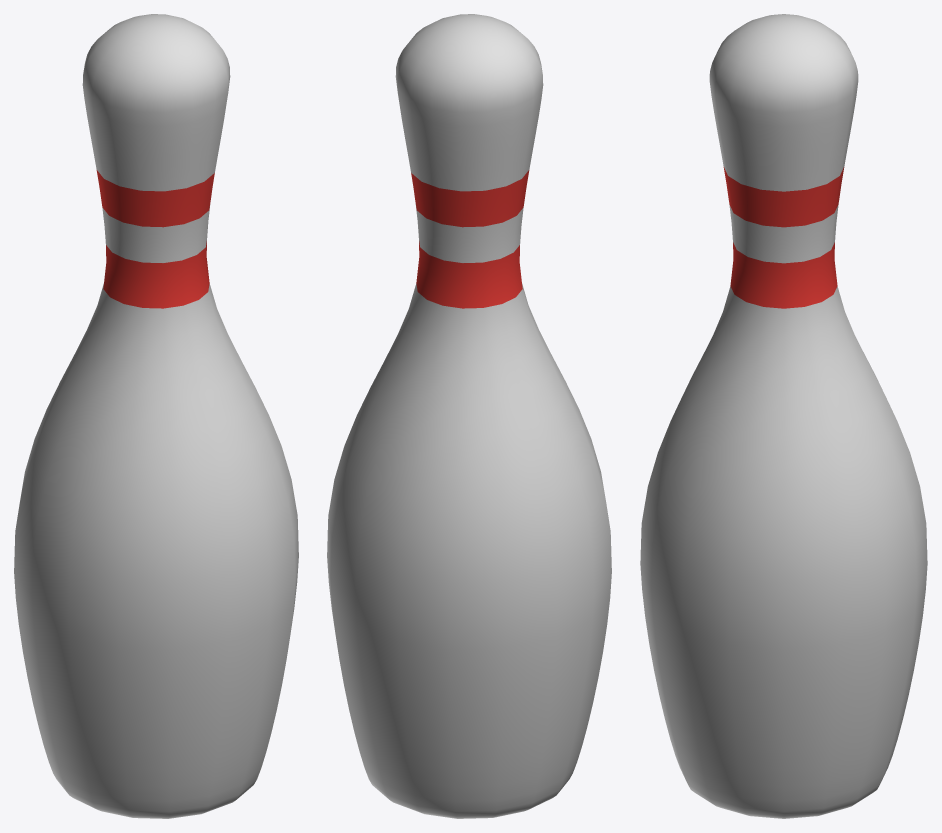
Rendered from BowlingPin.gltf.
3 renders of one model, left to right at view 1: azimuth 30°, elevation 25°; view 2: azimuth 150°, elevation 25°; view 3: azimuth 270°, elevation 25°, orthographic.
Visible parts, largest first — view 1: pinStripe; view 2: pinStripe; view 3: pinStripe.
Part boxes in pixels (box(x1,y1,x2,y2)): pinStripe: box(14, 14, 298, 818); pinStripe: box(327, 14, 611, 818); pinStripe: box(640, 14, 927, 818).
Size of the model in its own units: 0.1126 by 0.3284 by 0.1126.
